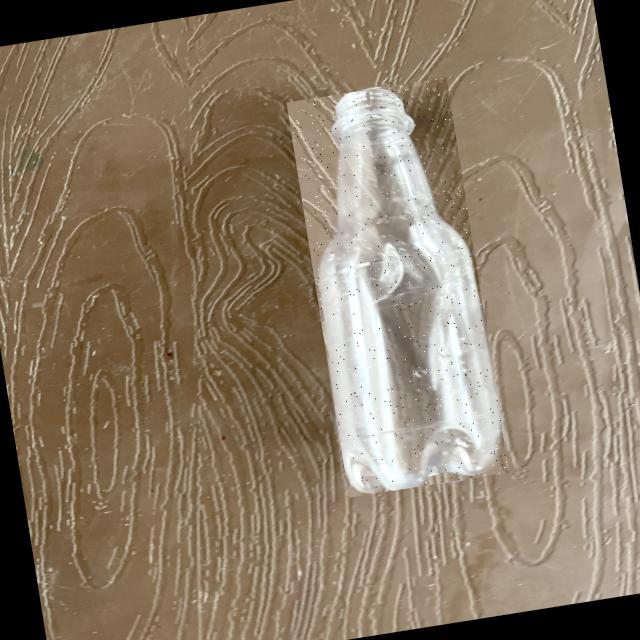PET_With_Liquid: (319, 89, 499, 492)
